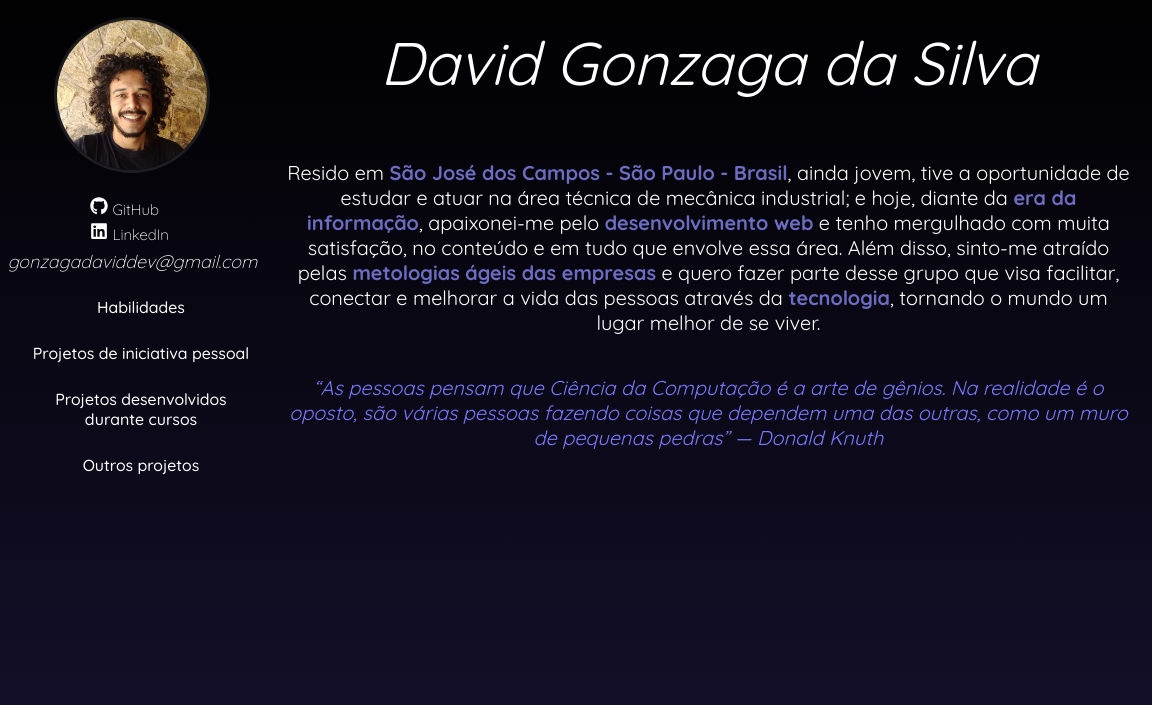
Test: teste rotas e rederizacao da aplicacao › verifica a renderizacao da pagina de outros projetos
The image size is (1152, 705).
Click the link "Outros projetos": coordinates (141, 465) [83, 455, 199, 475]
(page scrolled)
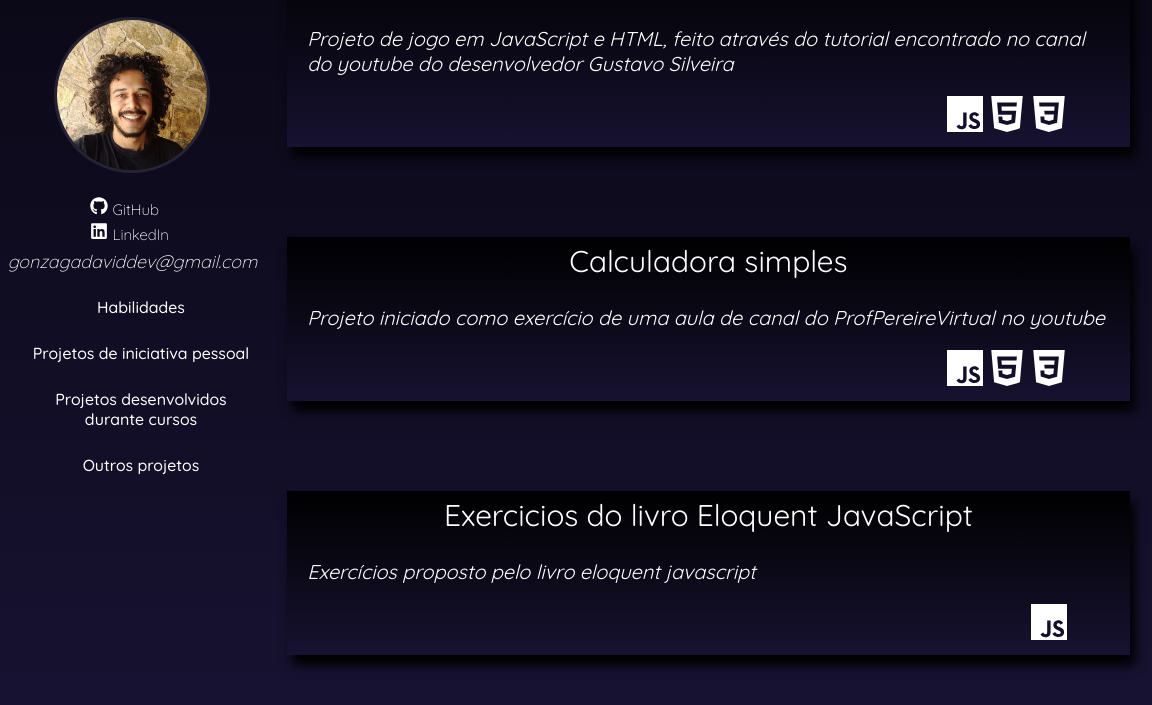
Expected: the text "Projeto de jogo em JavaScript e HTML, feito através do tutorial encontrado no canal do youtube do desenvolvedor Gustavo " is shown, [307, 26, 1085, 76]
Expected: the heading "Calculadora simples" is shown, [569, 242, 848, 280]
Expected: the text "Projeto iniciado como exercício de uma aula de canal do ProfPereireVirtual no youtube" is shown, [307, 305, 1105, 330]
